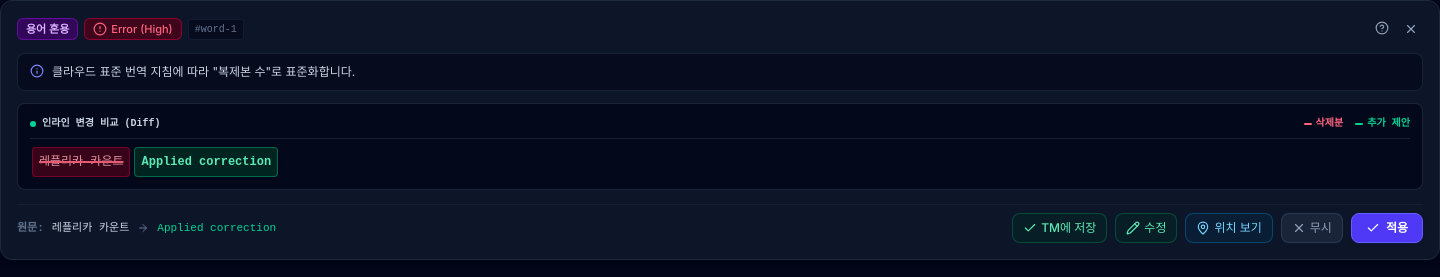
QACardItem Component › saves the applied QA suggestion, rather than the TM match target, to the user TM overlay
The image size is (1440, 277).
Click the button with test id "qa-save-to-tm-btn" at (1060, 228), box 1012,213 -> 1107,243
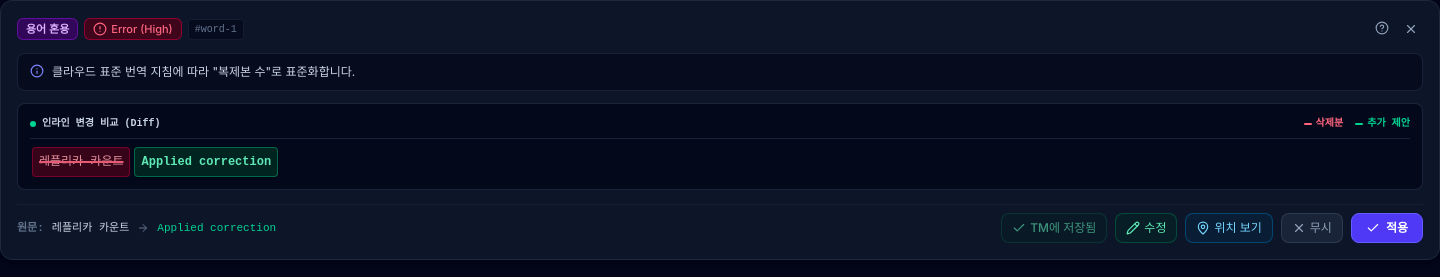
Check: the button with test id "qa-save-to-tm-btn" reads "TM에 저장됨", box 1001,213 -> 1107,243
